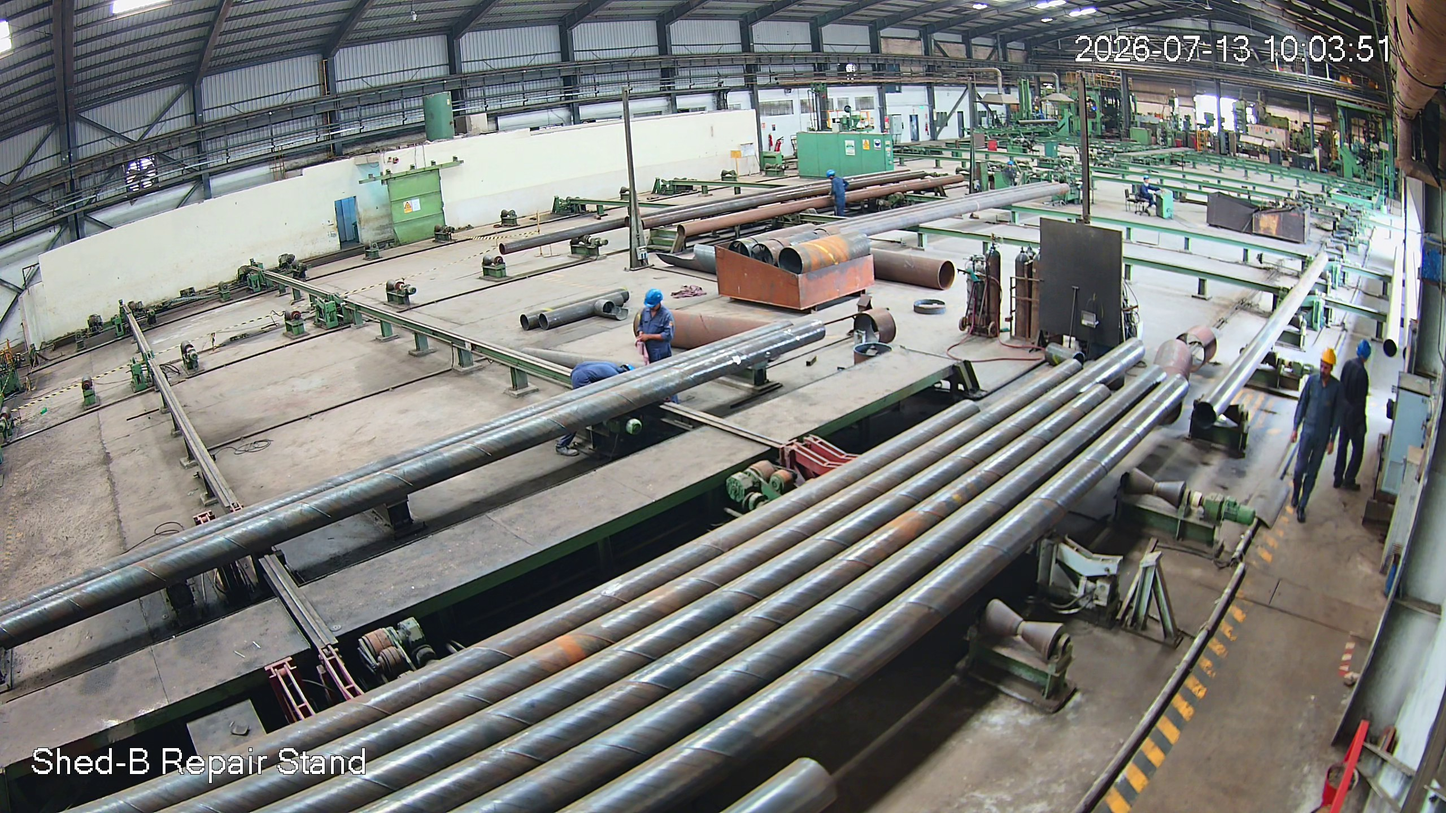Helmet: (1316, 348, 1343, 387), (1354, 338, 1380, 367), (643, 286, 667, 317)
Person: (1283, 349, 1344, 531), (1333, 340, 1376, 500), (641, 289, 677, 364)
